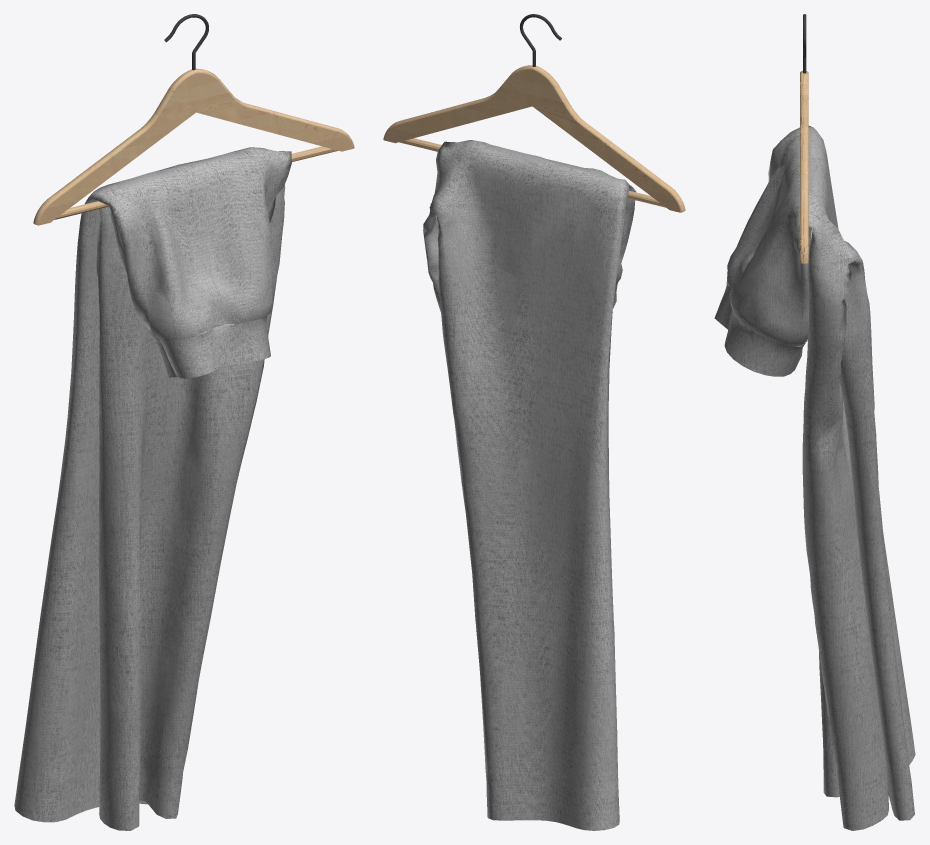
The model's file is Pants 1.fbx.
3 renders of one model, left to right at view 1: azimuth 30°, elevation 25°; view 2: azimuth 150°, elevation 25°; view 3: azimuth 270°, elevation 25°, orthographic. The views are drawn at different scales.
Parts seen in each view (by area): view 1: Pants 1, hanger; view 2: Pants 1, hanger; view 3: Pants 1, hanger.
Boxes of the visible parts, x1,y1,x2,y2 form: Pants 1: (14, 147, 291, 830); hanger: (33, 14, 354, 225); Pants 1: (423, 140, 636, 830); hanger: (383, 14, 685, 212); Pants 1: (714, 126, 915, 830); hanger: (800, 14, 808, 263).
Size of the model in its own units: 43.76 by 107 by 24.16.
Materials: 3 (2 with a texture image).
